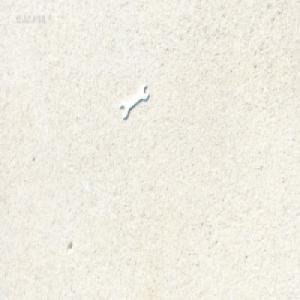Wrench: (119, 82, 150, 118)
